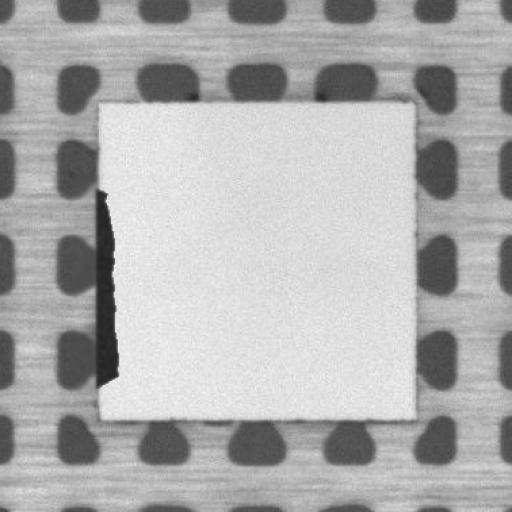DIE_BROKEN: (91, 179, 120, 391)
